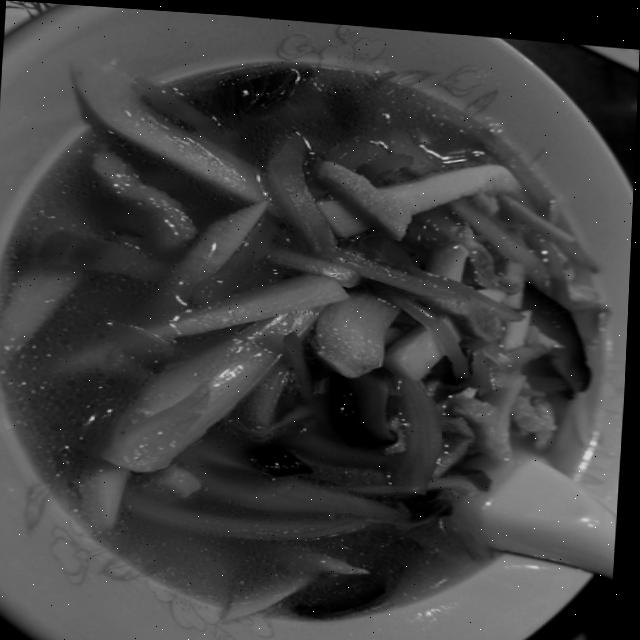面条主食: (0, 25, 614, 640)
